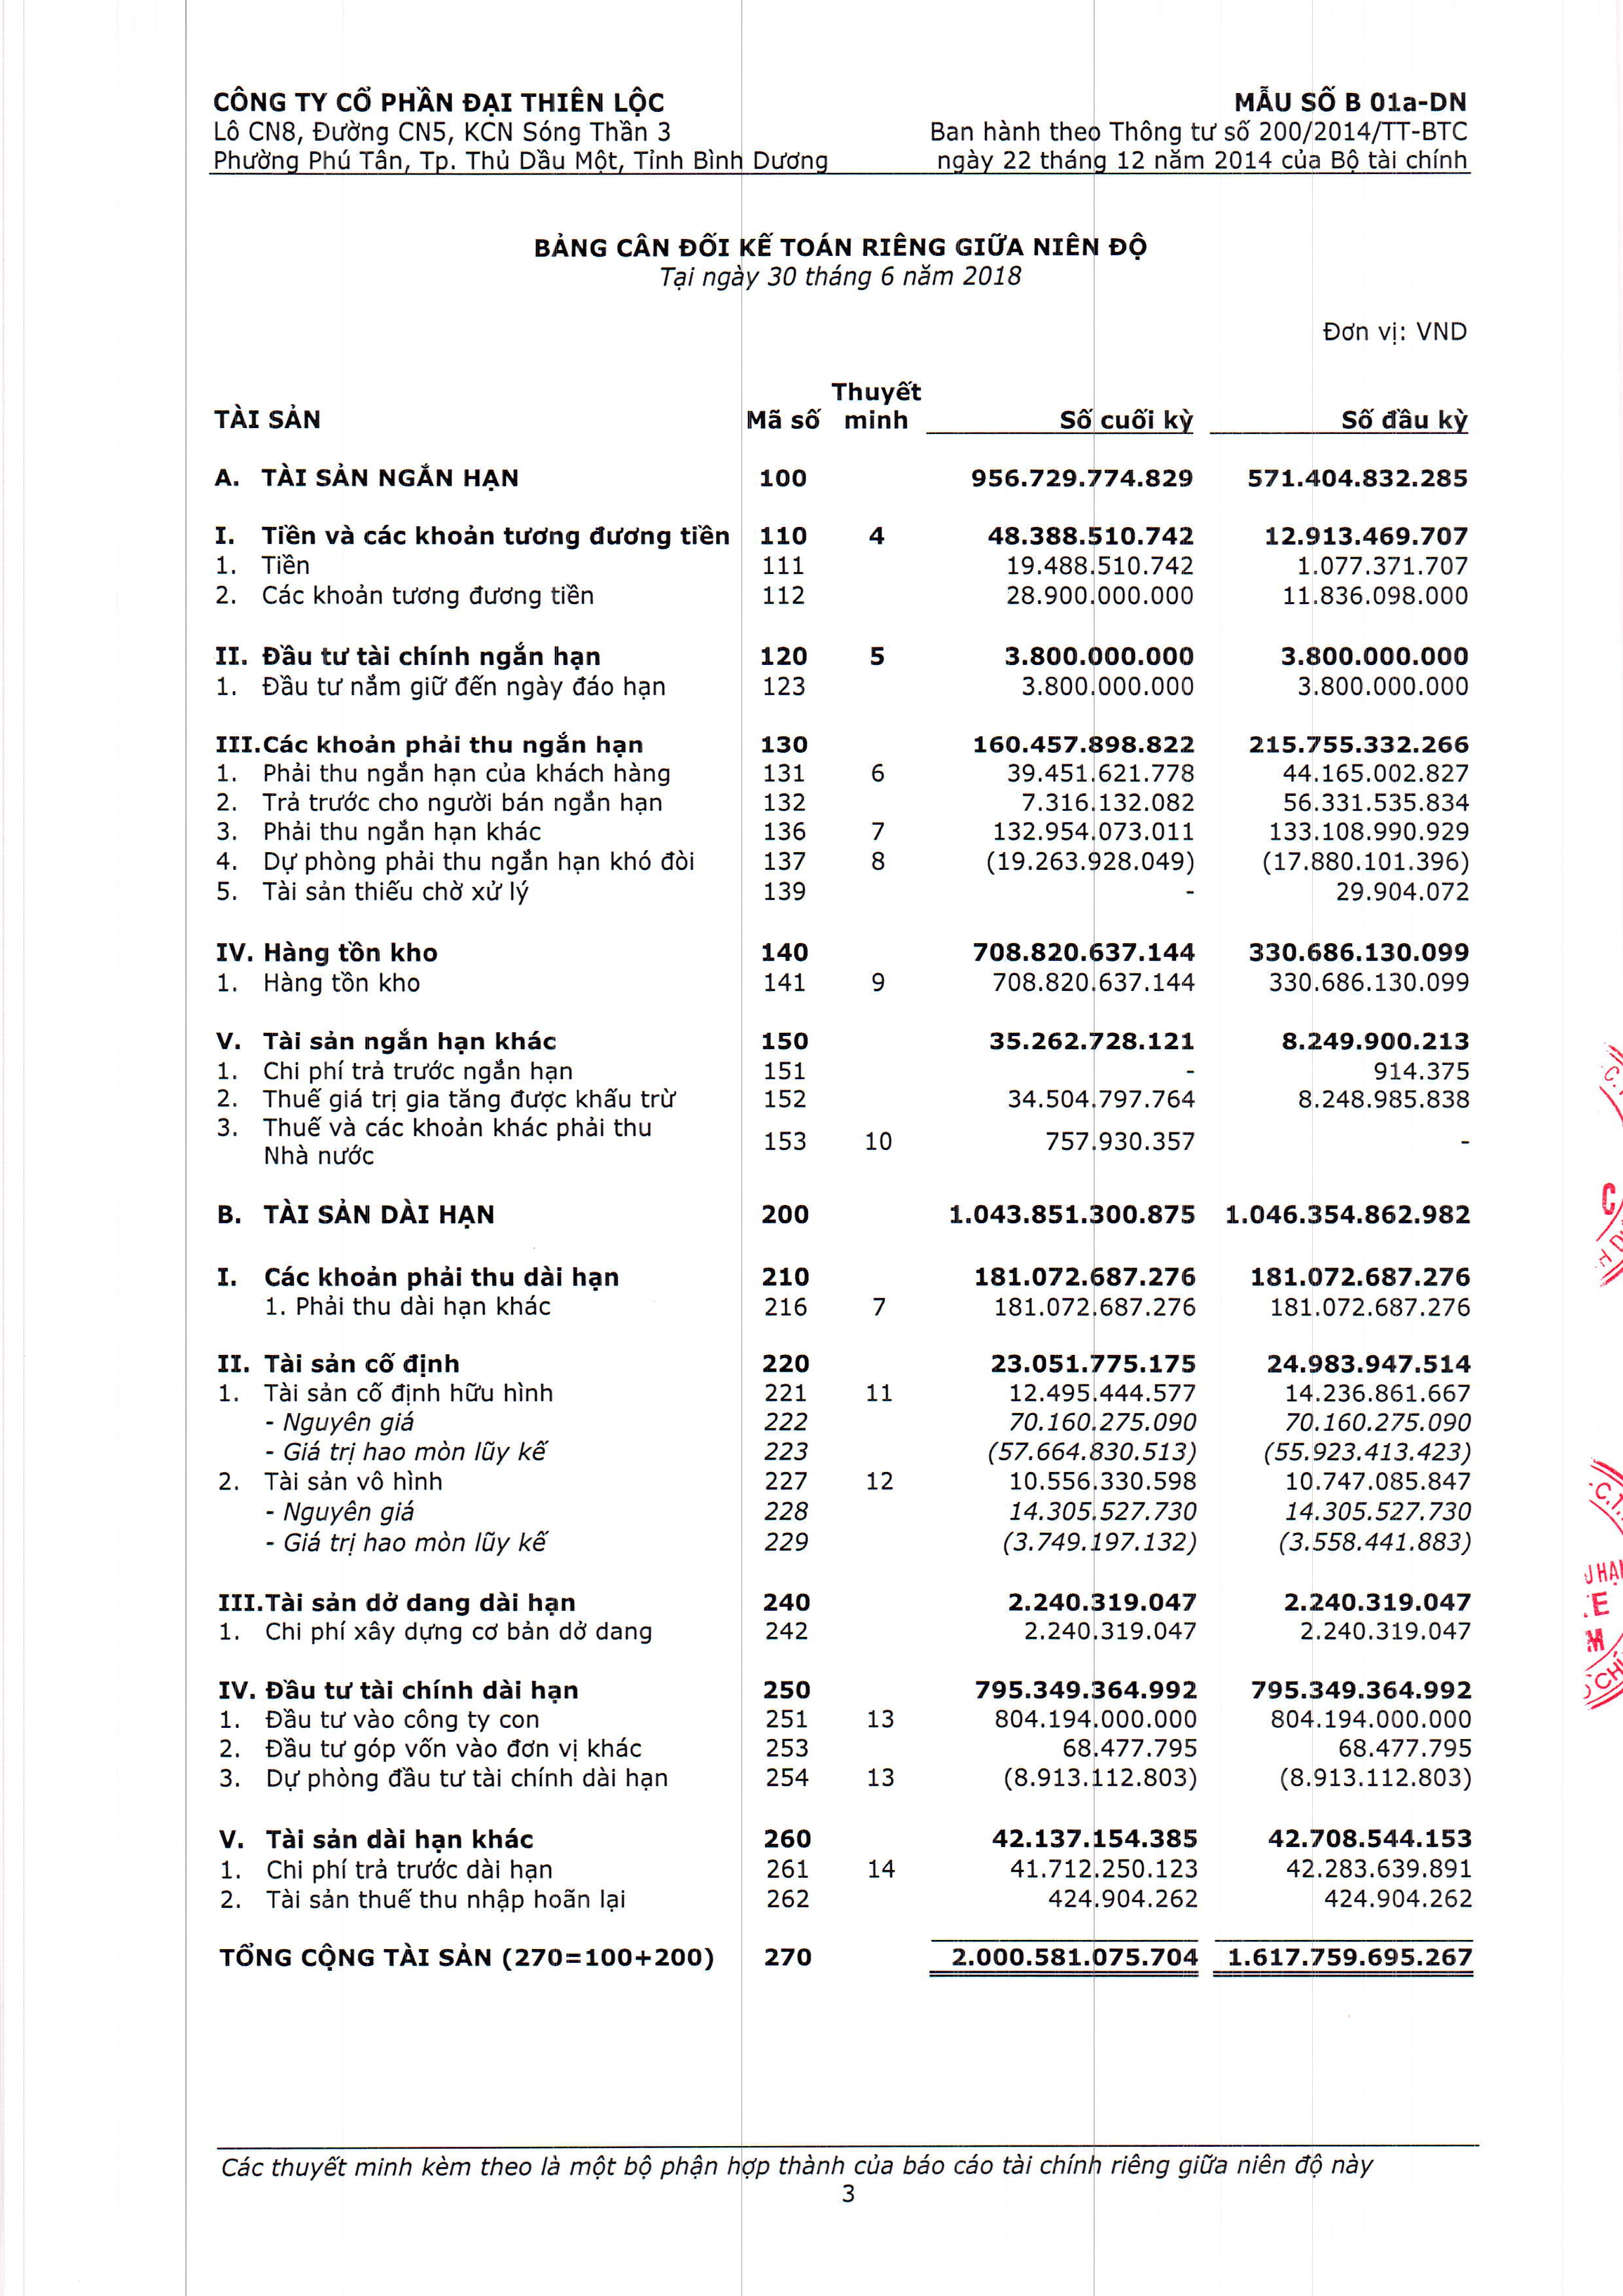table: (198, 367, 1490, 1992)
table column: (200, 367, 738, 1992), (940, 365, 1207, 1992), (1217, 367, 1475, 1992), (829, 367, 926, 1992), (745, 367, 820, 1994)
table column header: (198, 379, 1490, 437)
table row: (198, 378, 1490, 434), (198, 1184, 1490, 1238), (198, 1116, 1490, 1168), (198, 448, 1490, 497), (198, 501, 1490, 550), (198, 1939, 1490, 1973), (198, 641, 1490, 671), (198, 673, 1490, 703), (198, 727, 1490, 757), (198, 789, 1490, 817), (198, 848, 1490, 877), (198, 878, 1490, 906), (198, 1086, 1490, 1114), (198, 1467, 1490, 1495), (198, 1764, 1490, 1792), (198, 1825, 1490, 1853), (198, 552, 1490, 578), (198, 581, 1490, 608), (198, 761, 1490, 787), (198, 819, 1490, 845), (198, 940, 1490, 966), (198, 970, 1490, 996), (198, 1028, 1490, 1054), (198, 1058, 1490, 1084), (198, 1265, 1490, 1291), (198, 1293, 1490, 1319), (198, 1351, 1490, 1377), (198, 1379, 1490, 1405), (198, 1409, 1490, 1435), (198, 1439, 1490, 1465), (198, 1498, 1490, 1525), (198, 1530, 1490, 1556), (198, 1590, 1490, 1616), (198, 1618, 1490, 1644), (198, 1678, 1490, 1704), (198, 1706, 1490, 1732), (198, 1736, 1490, 1762), (198, 1857, 1490, 1883), (198, 1887, 1490, 1913)
